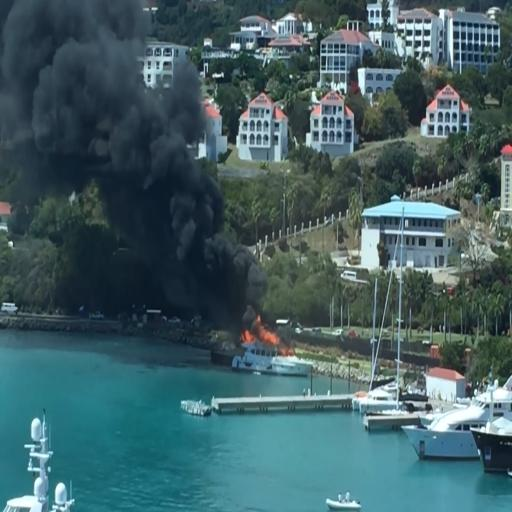smoke: (2, 0, 125, 172), (106, 77, 205, 226), (174, 235, 244, 317)
